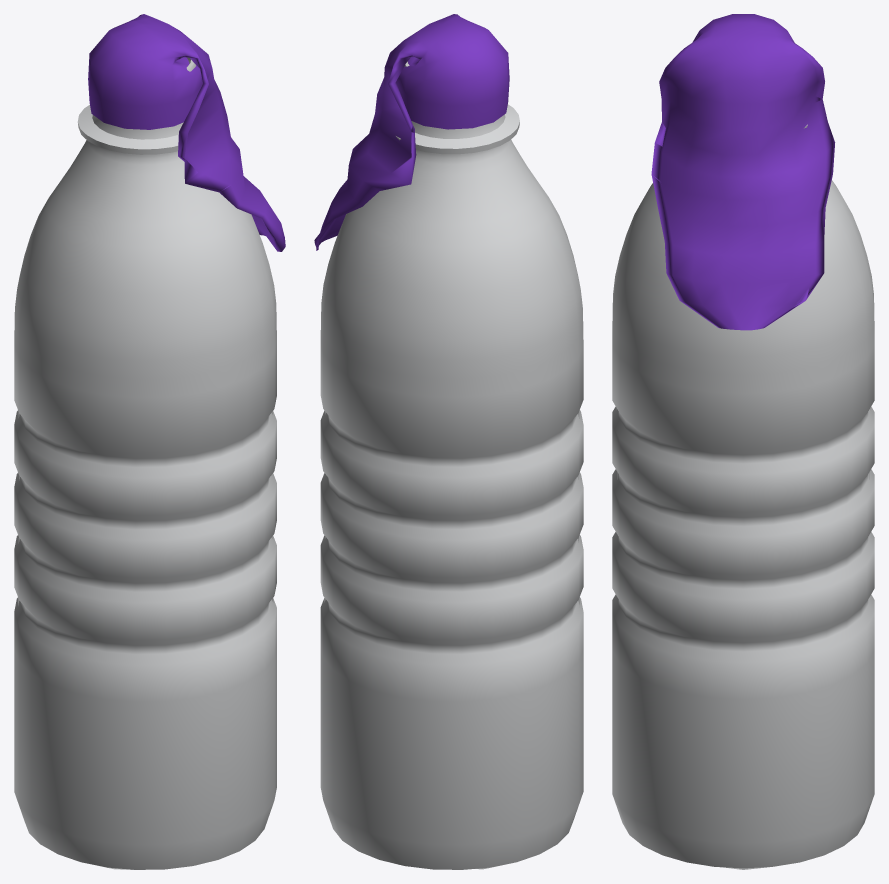
File: bottle.glb
The picture shows the model from 3 angles, left to right: view 1: azimuth 30°, elevation 25°; view 2: azimuth 150°, elevation 25°; view 3: azimuth 270°, elevation 25°; orthographic projection.
Visible parts, largest first — view 1: bottle_mesh, balloon_small; view 2: bottle_mesh, balloon_small; view 3: bottle_mesh, balloon_small.
Boxes of the visible parts, x1,y1,x2,y2 form: bottle_mesh: (14,57,276,869); balloon_small: (88,14,285,251); bottle_mesh: (320,61,583,869); balloon_small: (314,14,509,250); bottle_mesh: (612,124,874,869); balloon_small: (651,14,835,330).
Size of the model in its own units: 0.0707 by 0.2185 by 0.0645.
